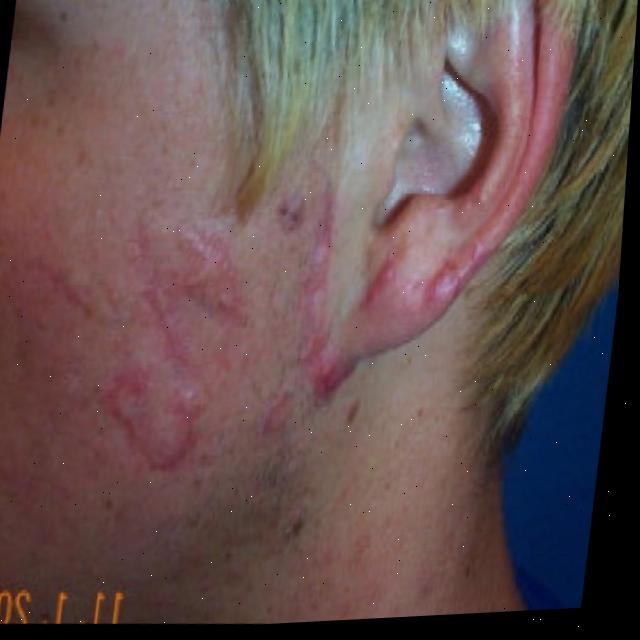Acne: (57, 142, 495, 499)
